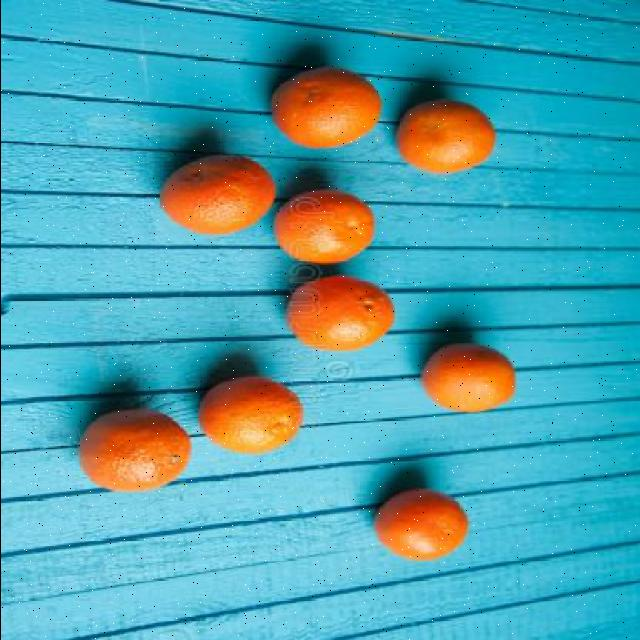Orange: (78, 408, 192, 490), (160, 154, 276, 234), (271, 66, 383, 148), (198, 374, 304, 454), (286, 274, 396, 351), (395, 98, 497, 174), (274, 188, 376, 264), (374, 488, 469, 560), (421, 342, 517, 412)
